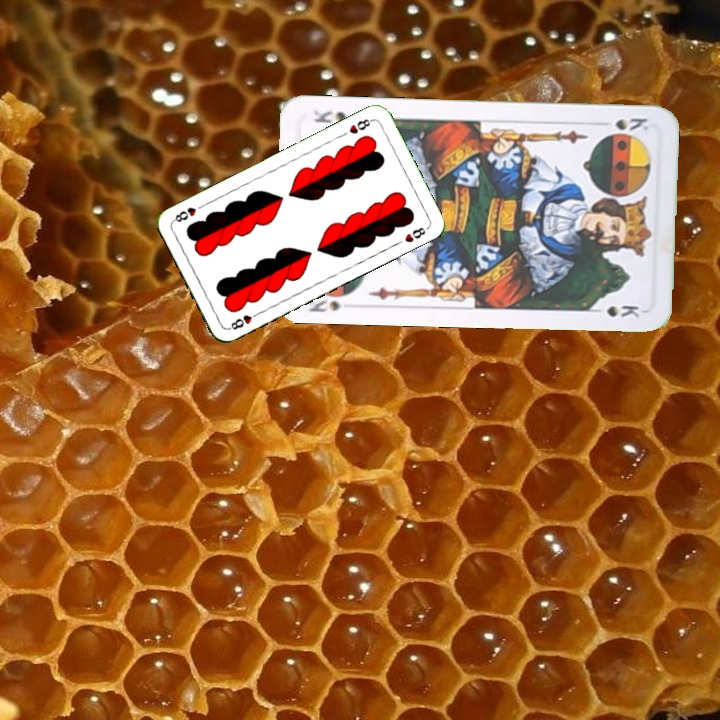H8: (225, 308, 262, 332), (345, 115, 376, 137)
SK: (594, 114, 651, 134), (304, 294, 343, 315)
